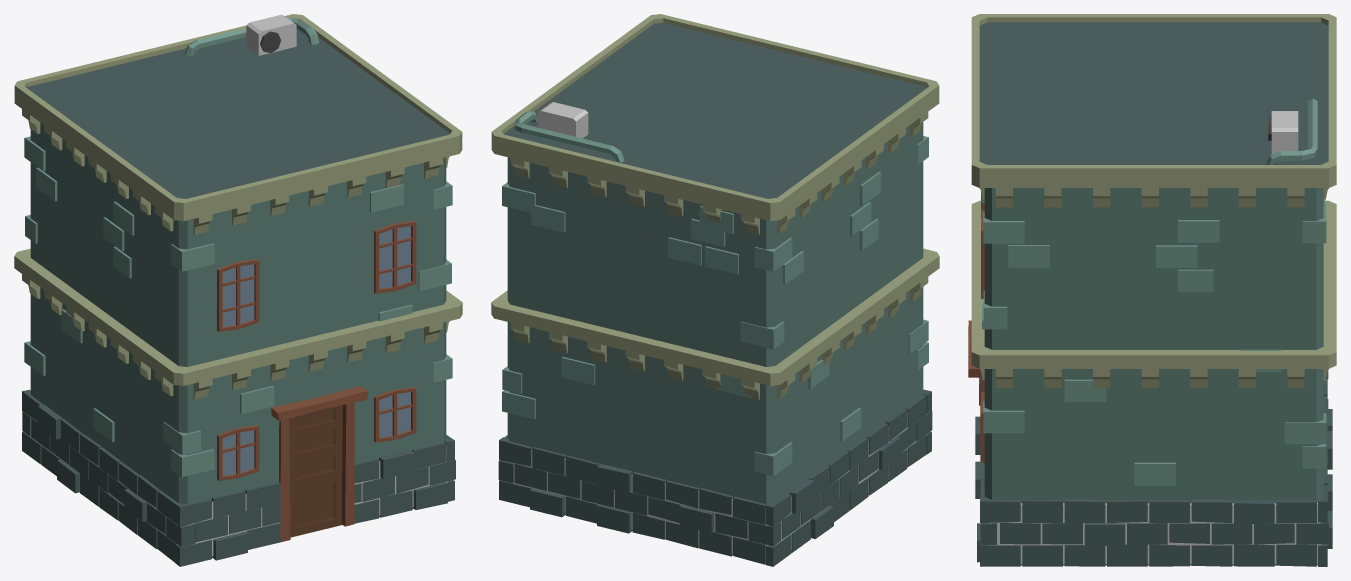
File: quat_2story_2.glb
The picture shows the model from 3 angles, left to right: view 1: azimuth 30°, elevation 25°; view 2: azimuth 150°, elevation 25°; view 3: azimuth 270°, elevation 25°; orthographic projection. The views are drawn at different scales.
Parts seen in each view (by area): view 1: 2Story_2_Cube.120; view 2: 2Story_2_Cube.120; view 3: 2Story_2_Cube.120.
Boxes of the visible parts, x1,y1,x2,y2 form: 2Story_2_Cube.120: [14, 14, 462, 566]; 2Story_2_Cube.120: [491, 14, 939, 566]; 2Story_2_Cube.120: [968, 14, 1336, 566].
Bounding box in the file's own units: 2.16 × 2.76 × 2.17.
1 material, 1 textured.
